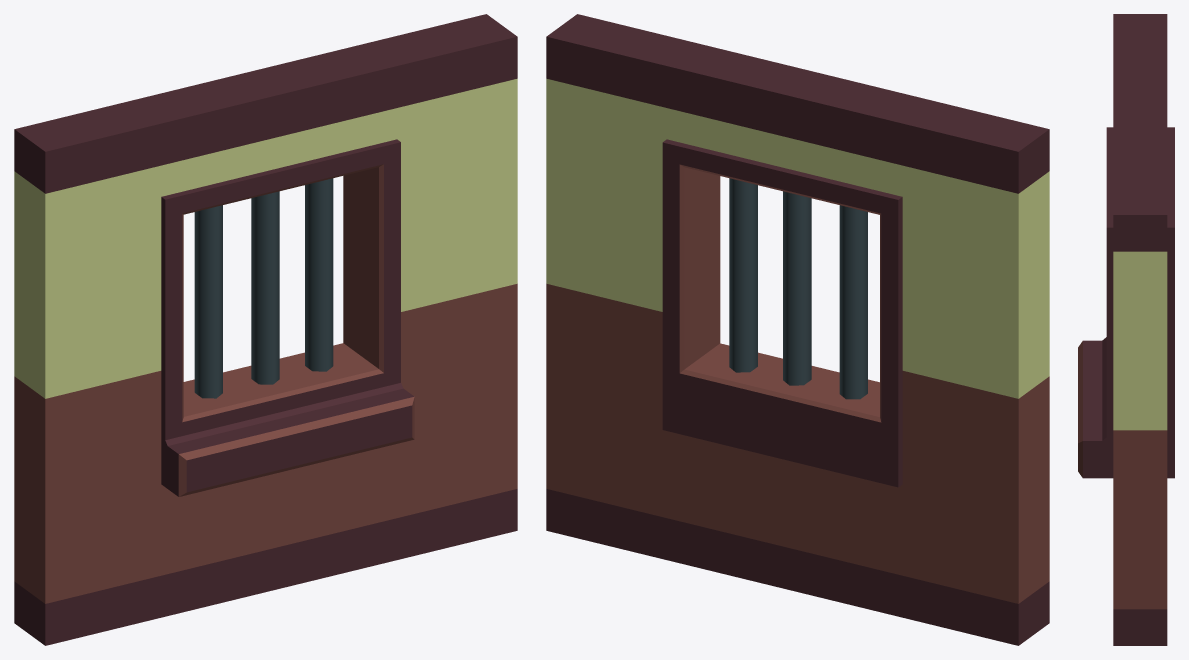
The model's file is Wall_office_window.fbx.
The picture shows the model from 3 angles, left to right: view 1: azimuth 30°, elevation 25°; view 2: azimuth 150°, elevation 25°; view 3: azimuth 270°, elevation 25°; orthographic projection. The views are drawn at different scales.
Visible parts, largest first — view 1: Wall_office_window; view 2: Wall_office_window; view 3: Wall_office_window.
Part boxes in pixels (bbox=[...]): Wall_office_window: bbox=[14, 14, 517, 645]; Wall_office_window: bbox=[546, 14, 1049, 645]; Wall_office_window: bbox=[1078, 14, 1174, 645].
Size of the model in its own units: 200 by 200 by 40.73.
